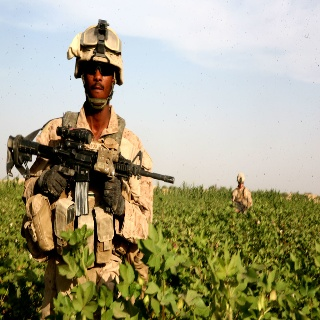rifle: (6, 126, 175, 218)
